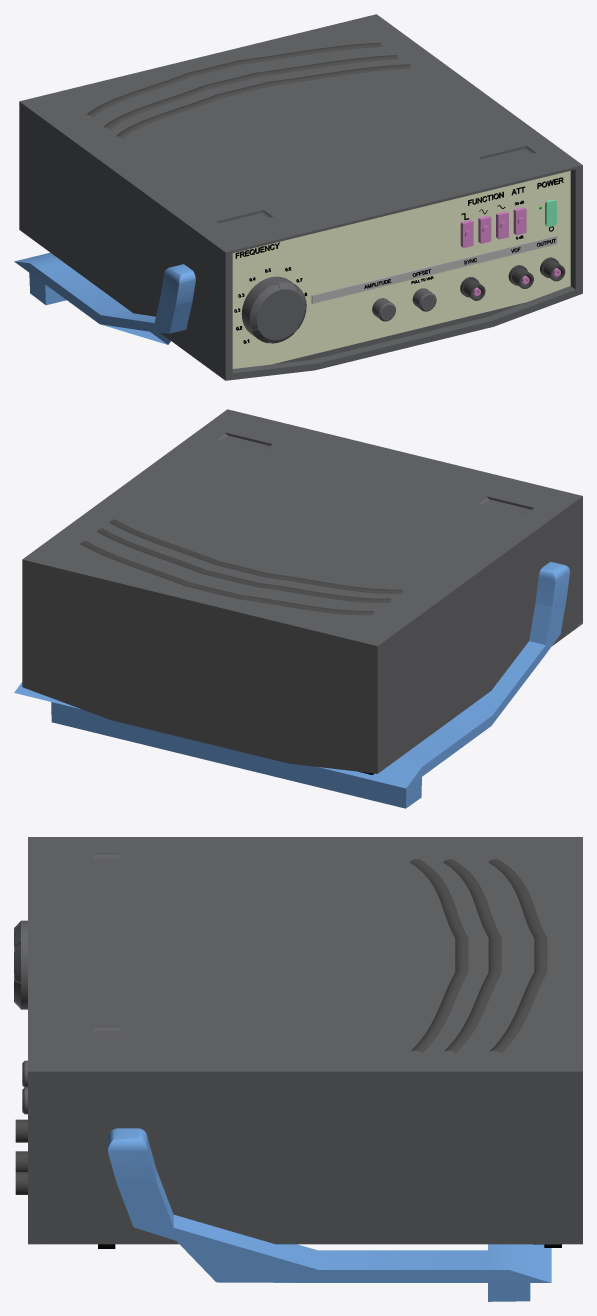
Rendered from function.fbx.
The picture shows the model from 3 angles, top to bottom: view 1: azimuth 30°, elevation 25°; view 2: azimuth 150°, elevation 25°; view 3: azimuth 270°, elevation 25°; orthographic projection. The views are drawn at different scales.
Visible parts, largest first — view 1: Cube, Cube.003, Cube.011, Cylinder, Plane, BezierCurve.004, BezierCurve.005, BezierCurve.006, Cylinder.034; view 2: Cube, Cube.011, BezierCurve.006, BezierCurve.005, BezierCurve.004, Cube.005; view 3: Cube, Cube.011, BezierCurve.005, BezierCurve.006, BezierCurve.004, Cube.005, Cylinder.
Boxes of the visible parts, <box> form: Cube: <box>19,14,582,380</box>; Cube.003: <box>232,171,570,368</box>; Cube.011: <box>14,252,195,344</box>; Cylinder: <box>241,276,306,343</box>; Plane: <box>311,235,557,303</box>; BezierCurve.004: <box>86,42,381,117</box>; BezierCurve.005: <box>104,55,398,129</box>; BezierCurve.006: <box>115,64,411,138</box>; Cylinder.034: <box>460,207,526,248</box>; Cube: <box>22,409,582,773</box>; Cube.011: <box>14,562,570,808</box>; BezierCurve.006: <box>109,519,403,593</box>; BezierCurve.005: <box>97,528,390,602</box>; BezierCurve.004: <box>80,540,374,615</box>; Cube.005: <box>382,689,480,769</box>; Cube: <box>28,837,582,1244</box>; Cube.011: <box>108,1128,551,1301</box>; BezierCurve.005: <box>443,859,501,1053</box>; BezierCurve.006: <box>409,859,468,1053</box>; BezierCurve.004: <box>488,859,547,1053</box>; Cube.005: <box>305,1230,582,1244</box>; Cylinder: <box>14,920,27,1009</box>.
Size of the model in its own units: 446 by 192 by 414.
